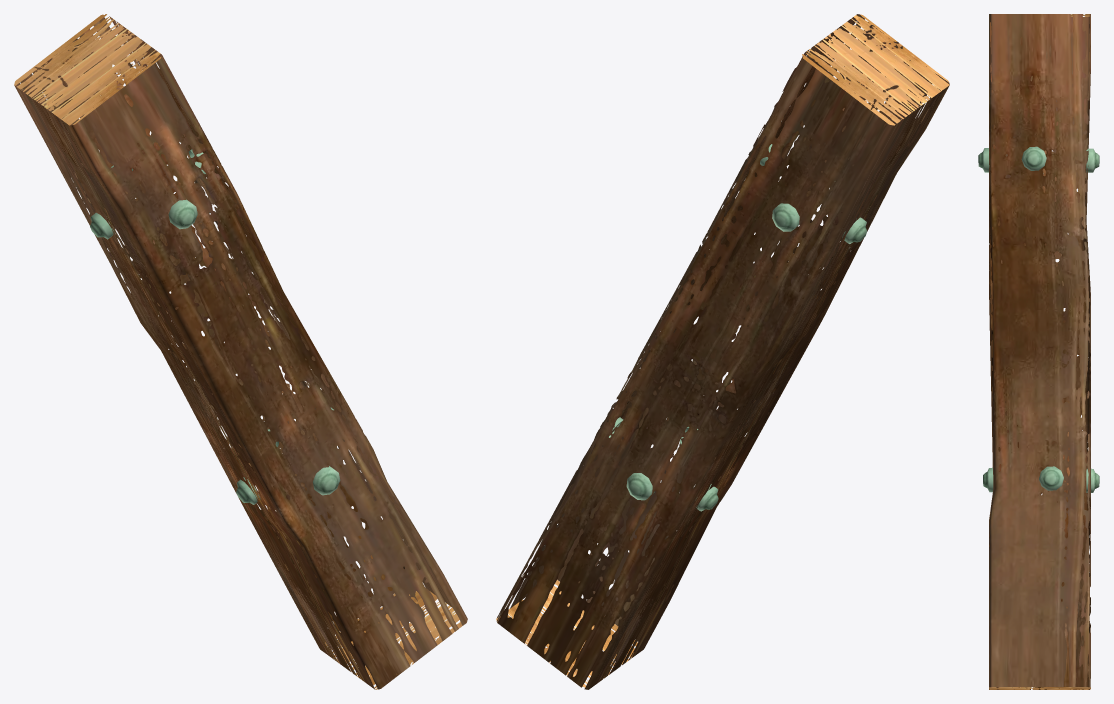
3 renders of one model, left to right at view 1: azimuth 30°, elevation 25°; view 2: azimuth 150°, elevation 25°; view 3: azimuth 270°, elevation 25°, orthographic. The views are drawn at different scales.
Parts seen in each view (by area): view 1: SM_BB_T4_Beam_Thin_Med_Steep_LOD0; view 2: SM_BB_T4_Beam_Thin_Med_Steep_LOD0; view 3: SM_BB_T4_Beam_Thin_Med_Steep_LOD0.
Boxes of the visible parts, x1,y1,x2,y2 form: SM_BB_T4_Beam_Thin_Med_Steep_LOD0: [14, 14, 467, 689]; SM_BB_T4_Beam_Thin_Med_Steep_LOD0: [496, 14, 949, 689]; SM_BB_T4_Beam_Thin_Med_Steep_LOD0: [978, 14, 1099, 689].
Bounding box in the file's own units: 0.9782 × 1.61 × 0.3016.
Materials: 2 (2 with a texture image).
